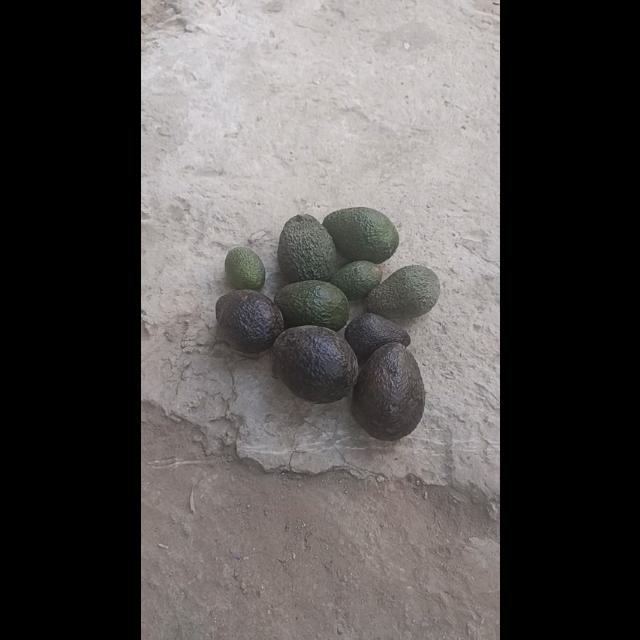Primera: (351, 344, 425, 438), (270, 324, 358, 402), (212, 288, 284, 354), (321, 206, 399, 264), (276, 212, 336, 282)
Segunda: (365, 263, 439, 319), (274, 280, 348, 332)
Tercera: (344, 312, 410, 361), (330, 260, 382, 302), (223, 246, 264, 290)
